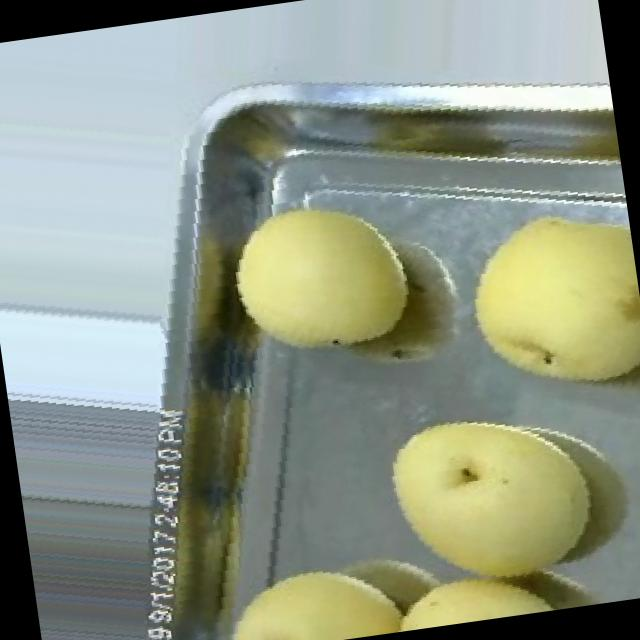Fruit: (356, 378, 622, 614), (202, 168, 438, 389), (437, 182, 640, 418), (196, 532, 431, 640)
